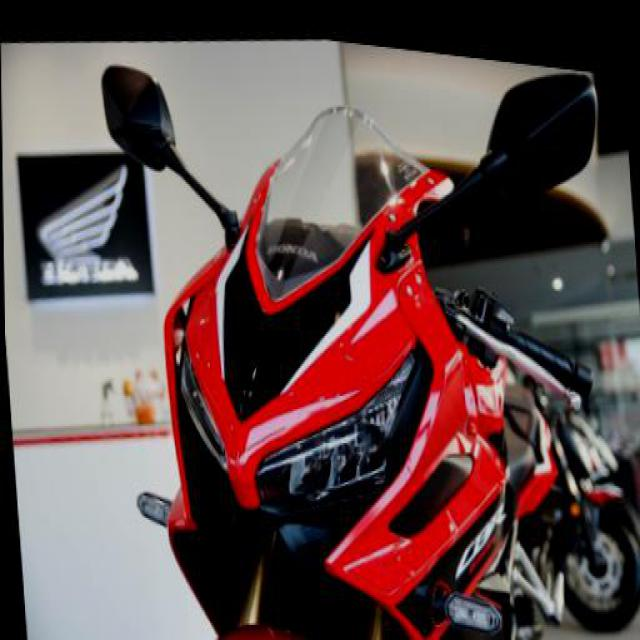CBR650R: (119, 49, 550, 638)
